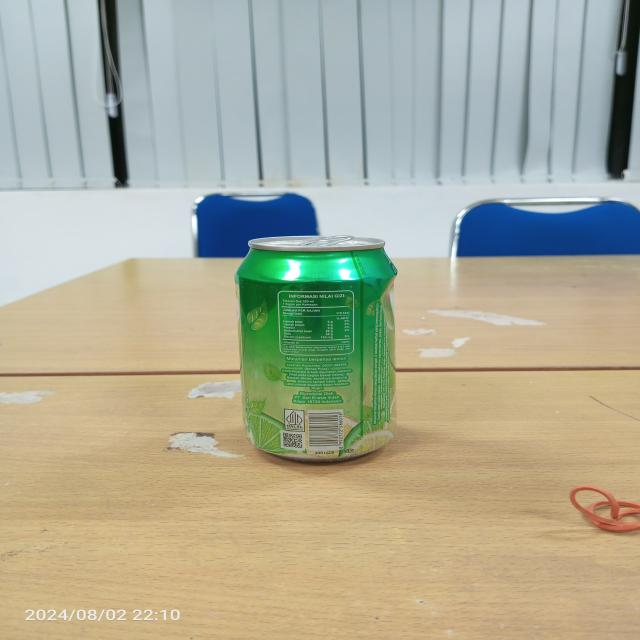ademsarikaleng: (233, 234, 399, 463)
